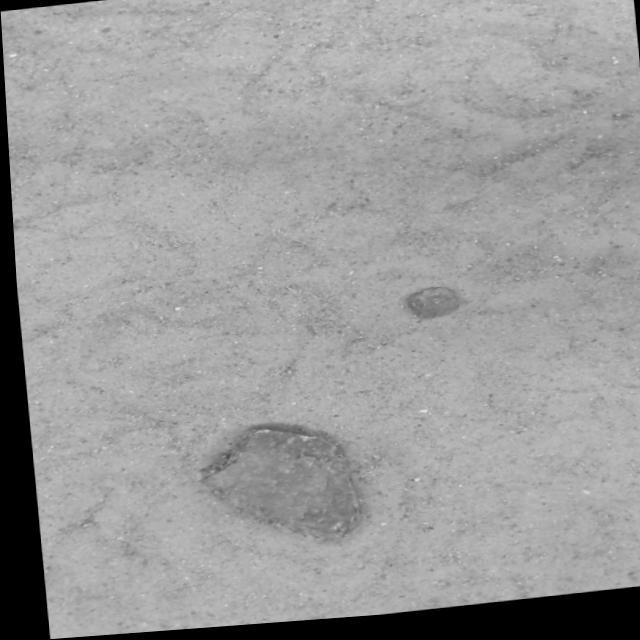rock: (192, 431, 349, 543), (402, 294, 453, 324)
